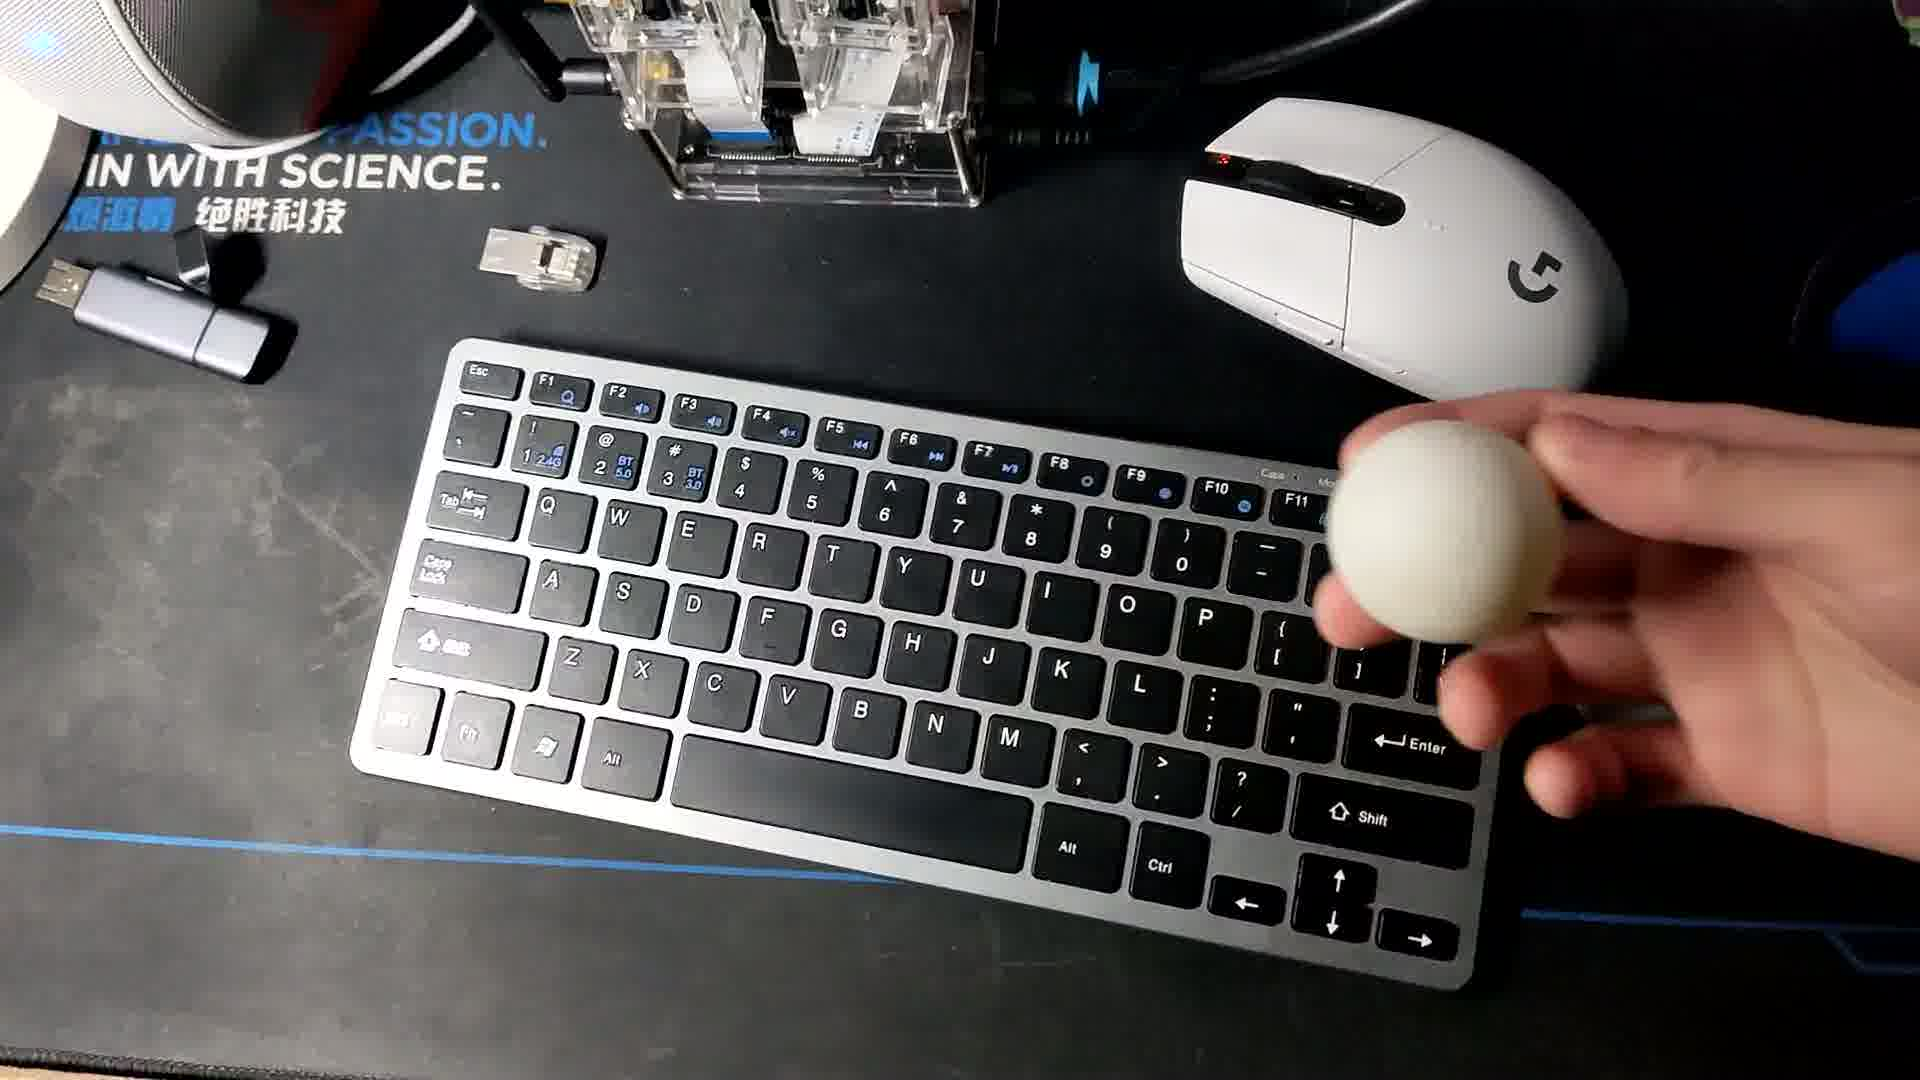Ball: (1327, 423, 1555, 641)
